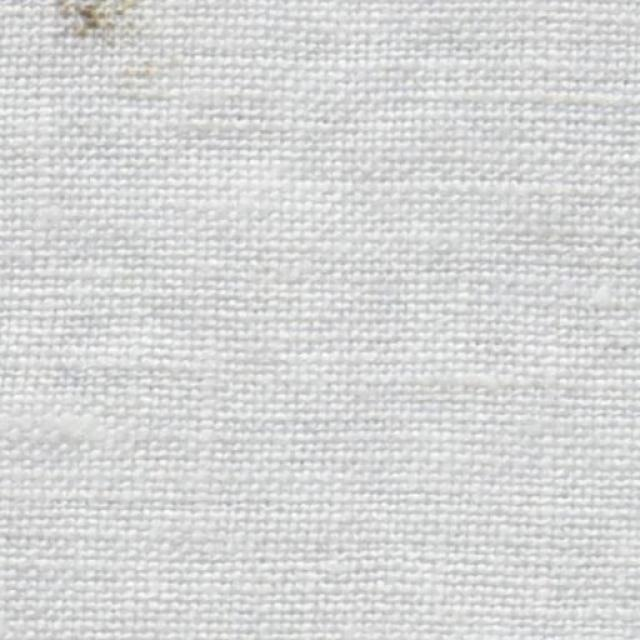Stain: (44, 0, 122, 55)
